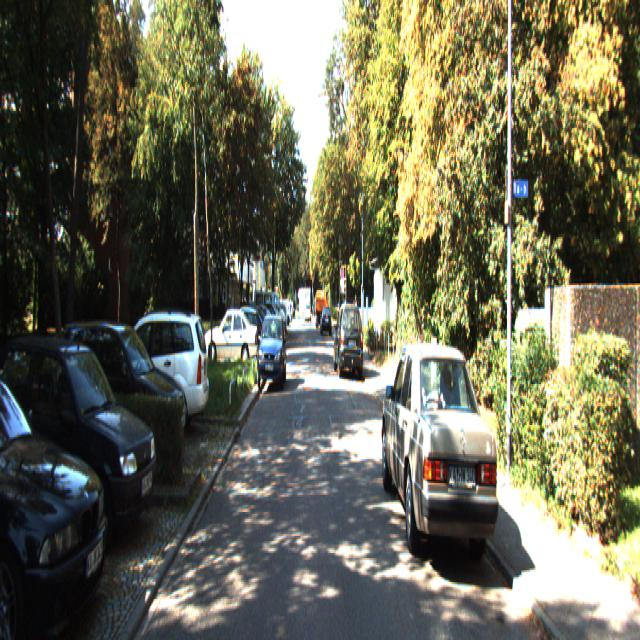Car: (0, 322, 161, 555), (0, 314, 113, 638), (381, 338, 500, 572), (48, 316, 189, 478), (88, 308, 210, 441), (204, 304, 258, 368), (334, 298, 364, 378), (258, 313, 288, 390)
